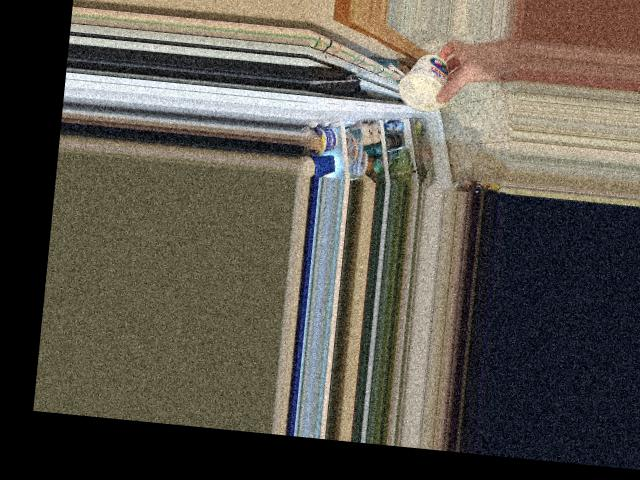cotage: (398, 54, 458, 115)
